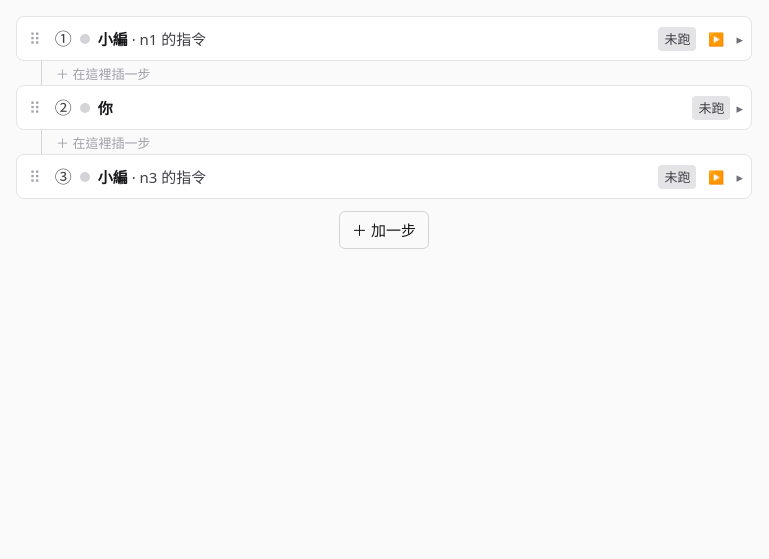
it: 這一步的產出（就地） › 沒跑過也看得到區塊（收合），按展開顯示「還沒有產出」
Step 1. Click the button with test id "station-n1-row" → point(113, 38), box [51, 23, 652, 54]
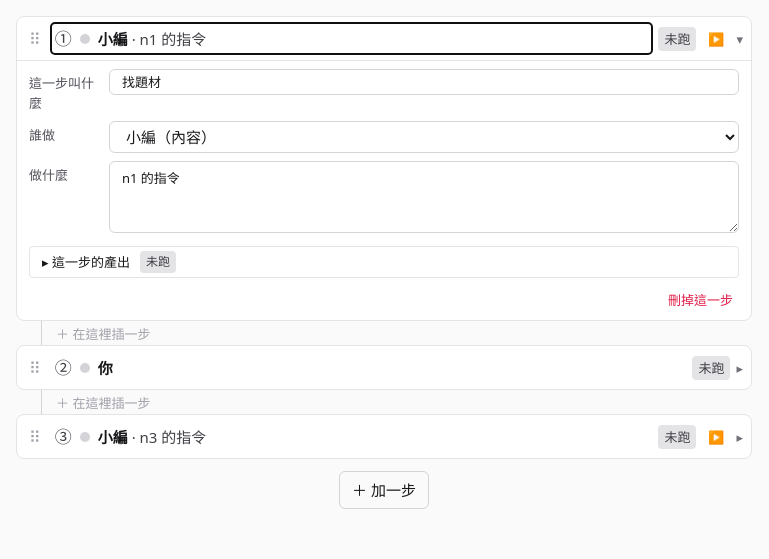
Step 2. Click the button with test id "station-n1-output-toggle" → point(86, 262), box [38, 252, 134, 272]
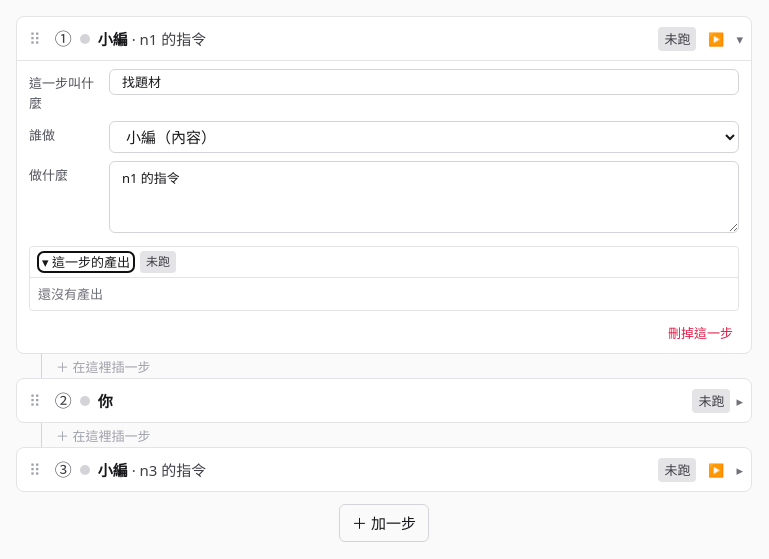
Check: the element with test id "station-n1-output" shows "還沒有產出", box [38, 285, 103, 303]
